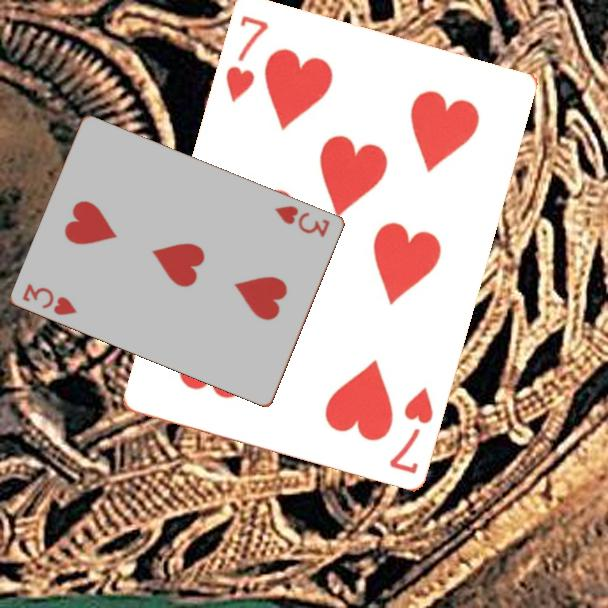h03: (19, 279, 80, 318), (271, 202, 333, 240)
h07: (385, 382, 436, 476), (221, 11, 271, 105)
